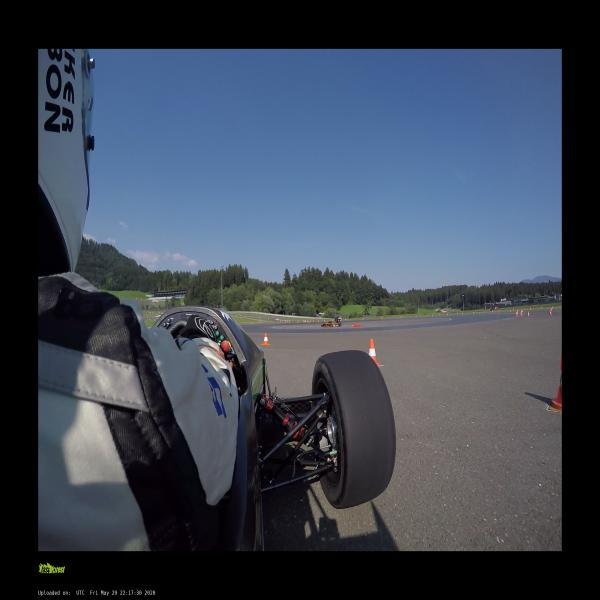orange_cone: (552, 349, 562, 412), (368, 340, 379, 366), (262, 333, 270, 345), (548, 311, 552, 316), (527, 312, 529, 316), (515, 312, 516, 315)
